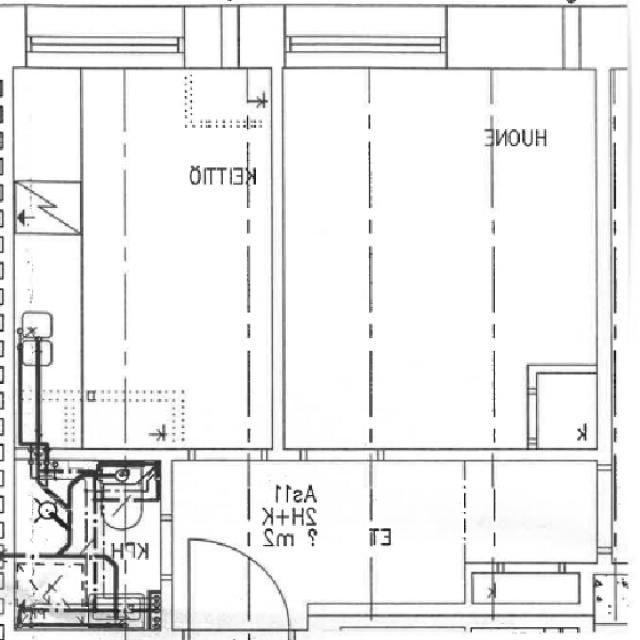door: (190, 534, 291, 640)
